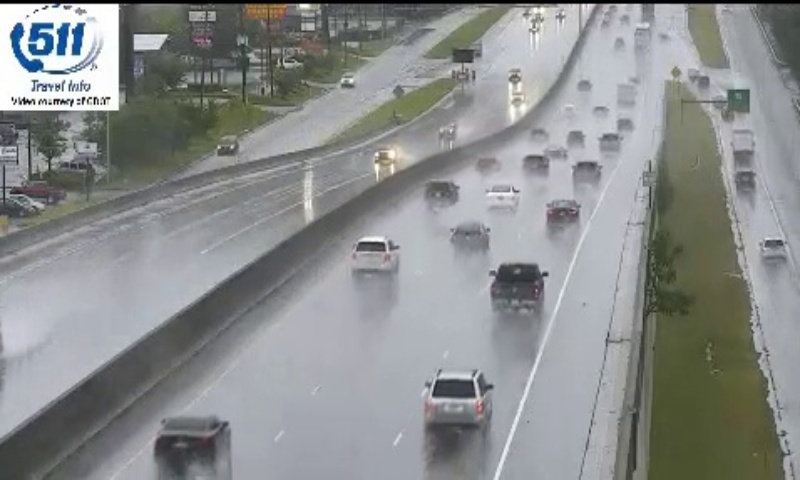car: (425, 369, 492, 430), (155, 417, 232, 468), (490, 262, 543, 310), (349, 238, 396, 272), (450, 222, 490, 253), (423, 179, 458, 205), (545, 200, 579, 224), (485, 182, 517, 207)
